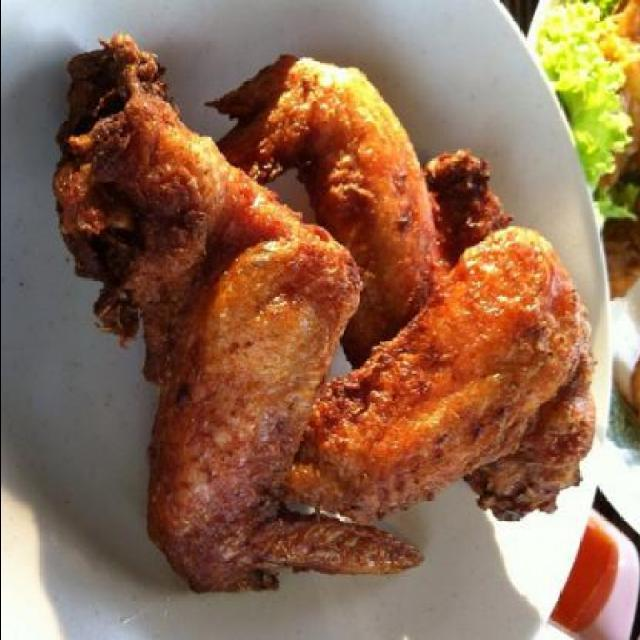Deep fried chicken wing: (64, 43, 604, 591)
